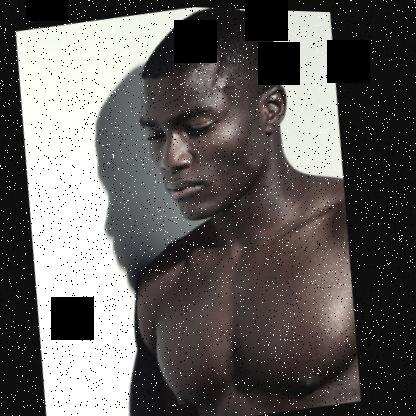Male: (124, 49, 312, 229)
